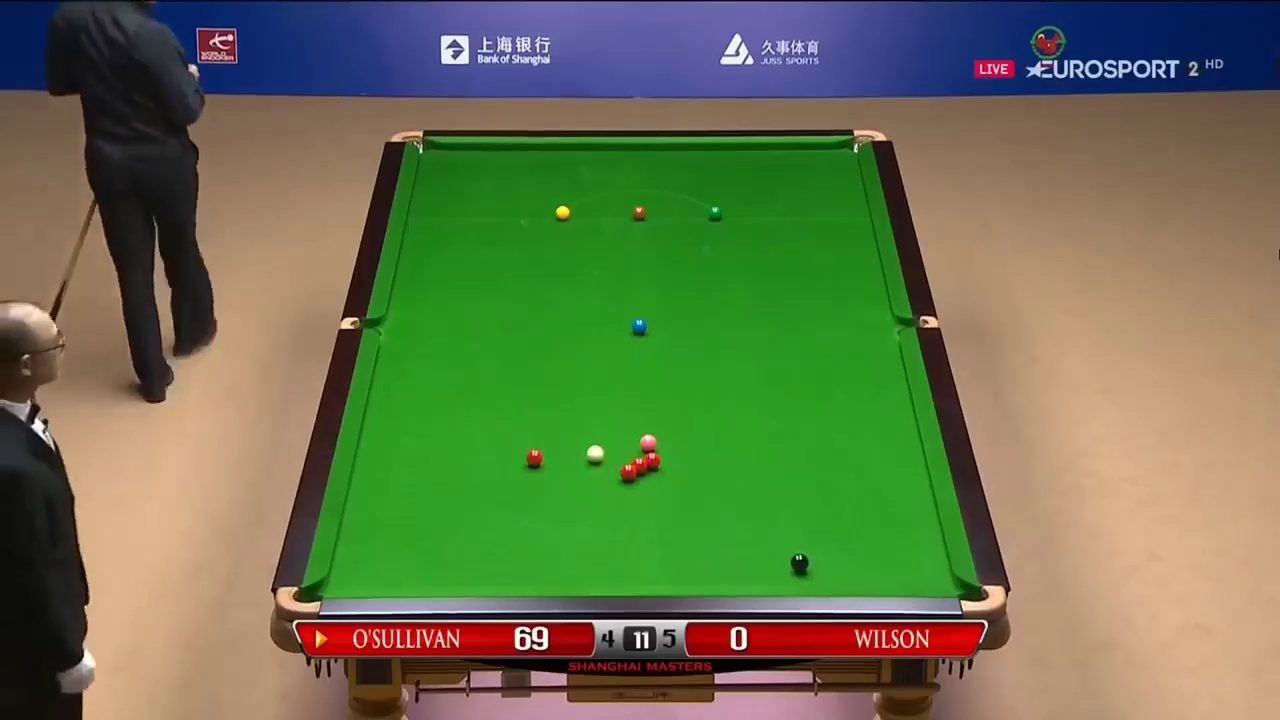ball: (586, 445, 606, 467), (636, 430, 657, 450), (790, 552, 809, 571), (525, 450, 544, 469), (555, 204, 572, 221), (631, 316, 648, 333), (706, 203, 722, 220), (630, 204, 645, 220)
